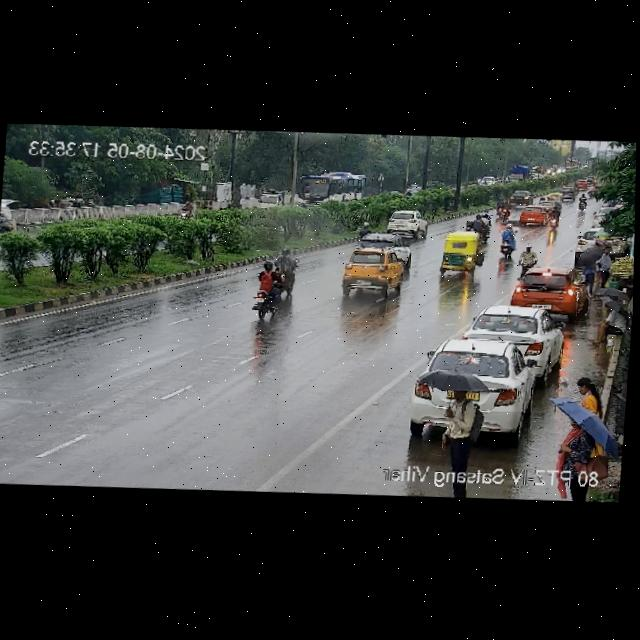bus: (295, 168, 367, 210)
car: (407, 335, 557, 447), (467, 302, 566, 361), (510, 269, 587, 320), (336, 244, 408, 295), (436, 233, 483, 275), (384, 208, 431, 236), (358, 233, 414, 255), (517, 205, 549, 228), (56, 194, 82, 213), (506, 190, 533, 206), (561, 185, 577, 199), (548, 191, 563, 205), (482, 175, 496, 187), (575, 179, 588, 188)
motorcycle: (248, 244, 300, 319), (497, 223, 518, 258), (463, 212, 494, 235), (520, 244, 540, 272), (491, 197, 510, 222), (549, 204, 561, 232), (178, 198, 194, 219), (574, 191, 588, 213), (539, 195, 548, 206)
person: (437, 378, 485, 457), (557, 420, 609, 474), (590, 293, 630, 345), (571, 371, 601, 426), (577, 244, 606, 287), (594, 246, 613, 289)
truck: (257, 188, 292, 211), (507, 165, 530, 183)
